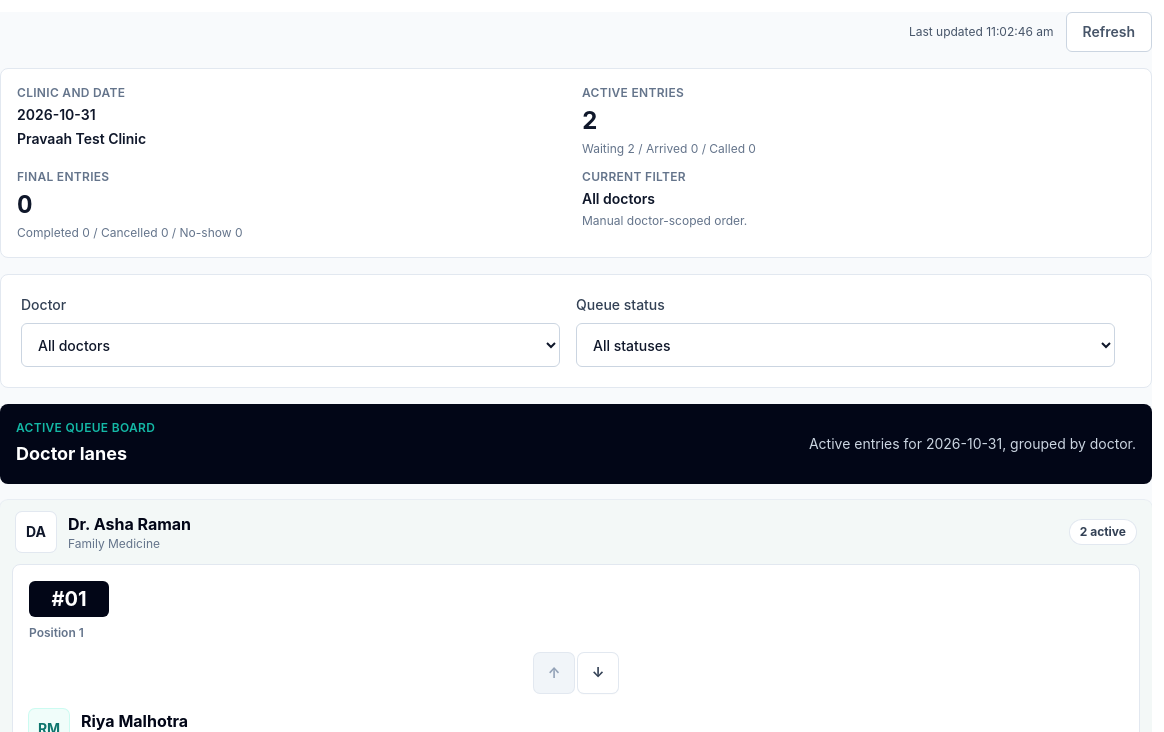
Test: QueuePage manual reorder controls › displays queue positions and enforces first, last, and single-entry boundaries
Expected: the text "Position 1" is shown, [29, 625, 84, 640]
Expected: the button named "move riya malhotra up" is disabled, [534, 653, 574, 693]
Click the button "Refresh" at (1109, 32), box [1066, 12, 1152, 52]
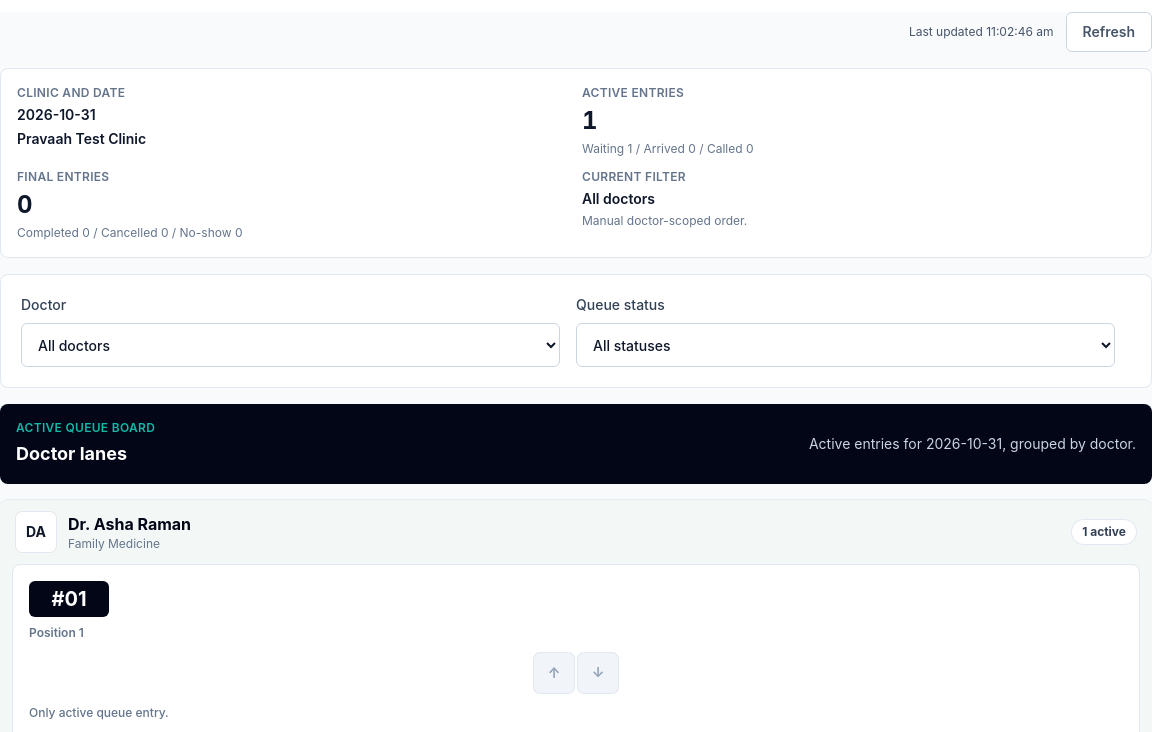
Expected: the button named "move riya malhotra up" is disabled, [534, 653, 574, 693]
Now the text "Only active queue entry." is shown, box [29, 705, 169, 720]
Now the button named "move riya malhotra down" is disabled, box [578, 653, 618, 693]
